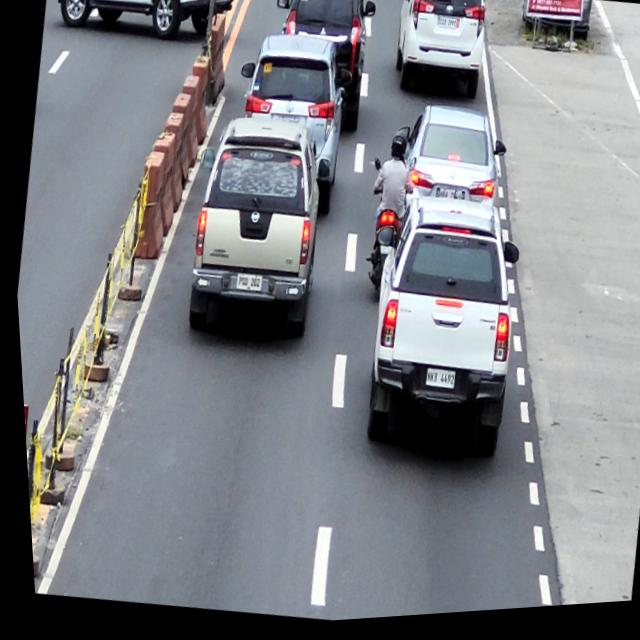Car: (350, 211, 529, 475), (169, 111, 336, 351), (217, 28, 363, 229), (256, 0, 385, 143), (384, 100, 513, 220), (382, 0, 493, 107), (48, 0, 243, 55)
License-Plate: (420, 374, 452, 397), (231, 275, 260, 297), (436, 192, 461, 209), (438, 21, 458, 37), (375, 250, 390, 263)
Motorcycle: (352, 157, 421, 302)
